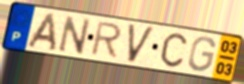A: (25, 11, 58, 53)
C: (159, 32, 189, 69)
G: (187, 35, 218, 74)
N: (57, 14, 92, 56)
R: (88, 20, 125, 60)
V: (126, 22, 157, 66)
